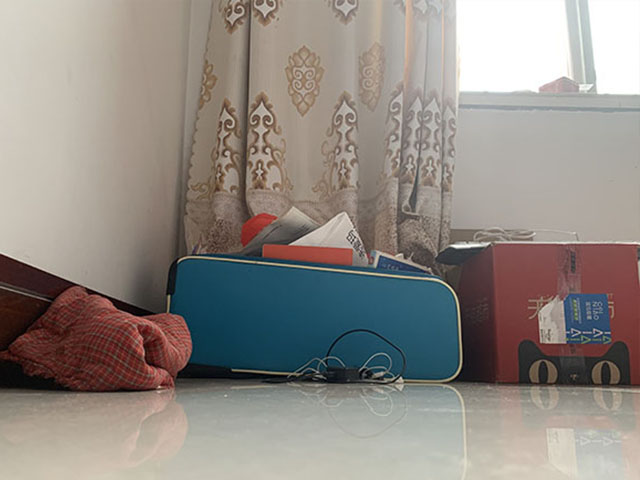wire: (260, 323, 408, 386)
